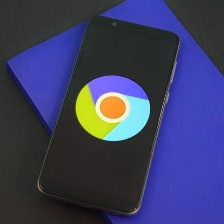phone: (32, 10, 183, 220)
